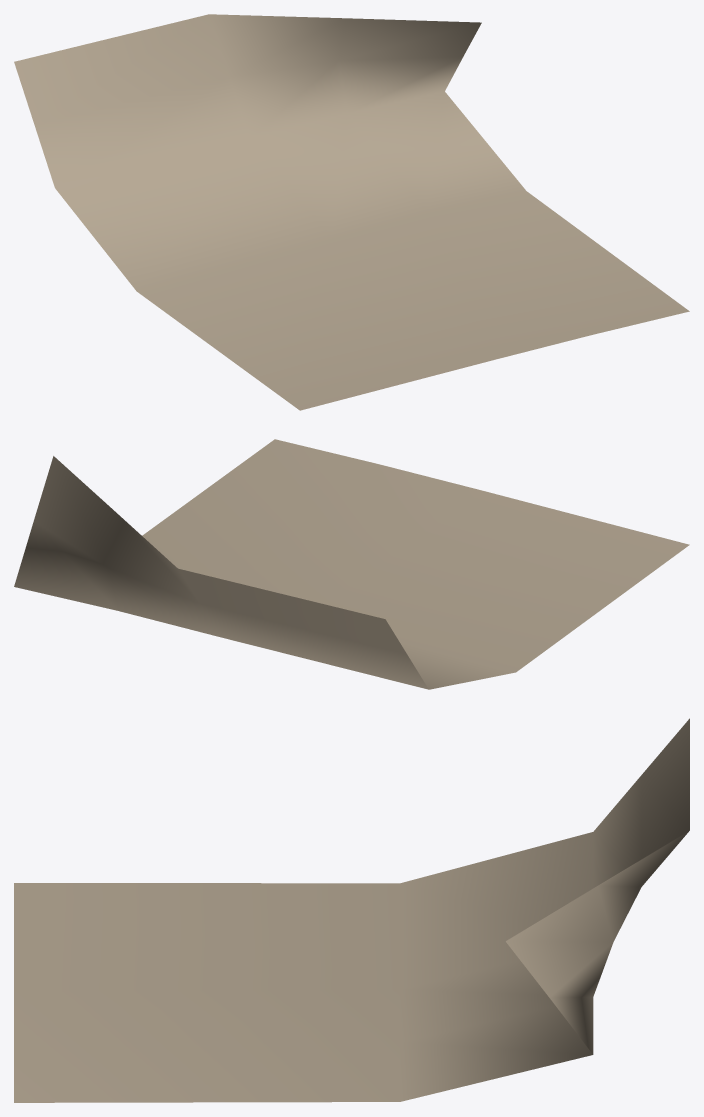
Rendered from S_Paper3.fbx.
3 renders of one model, top to bottom at view 1: azimuth 30°, elevation 25°; view 2: azimuth 150°, elevation 25°; view 3: azimuth 270°, elevation 25°, orthographic. The views are drawn at different scales.
Parts seen in each view (by area): view 1: S_Paper3; view 2: S_Paper3; view 3: S_Paper3.
Part boxes in pixels (<box>): S_Paper3: <box>14,14,689,410</box>; S_Paper3: <box>14,439,689,689</box>; S_Paper3: <box>14,718,689,1102</box>.
Bounding box in the file's own units: 44.4 × 15.35 × 56.41.
